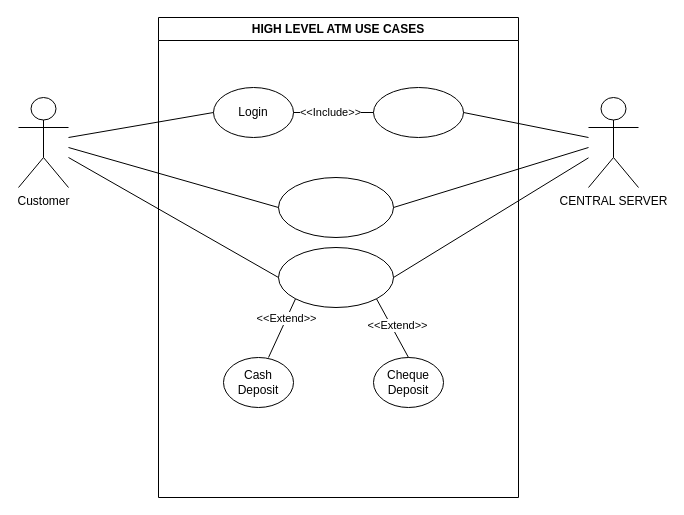
Some shapes in this 684 by 515 pixel diagram are drawn without their labels. Each missing label, with the centre of its shape:
"Authenticate" goes at point (418, 112).
"Deposit" goes at point (336, 277).
"Withdraw" goes at point (336, 207).
